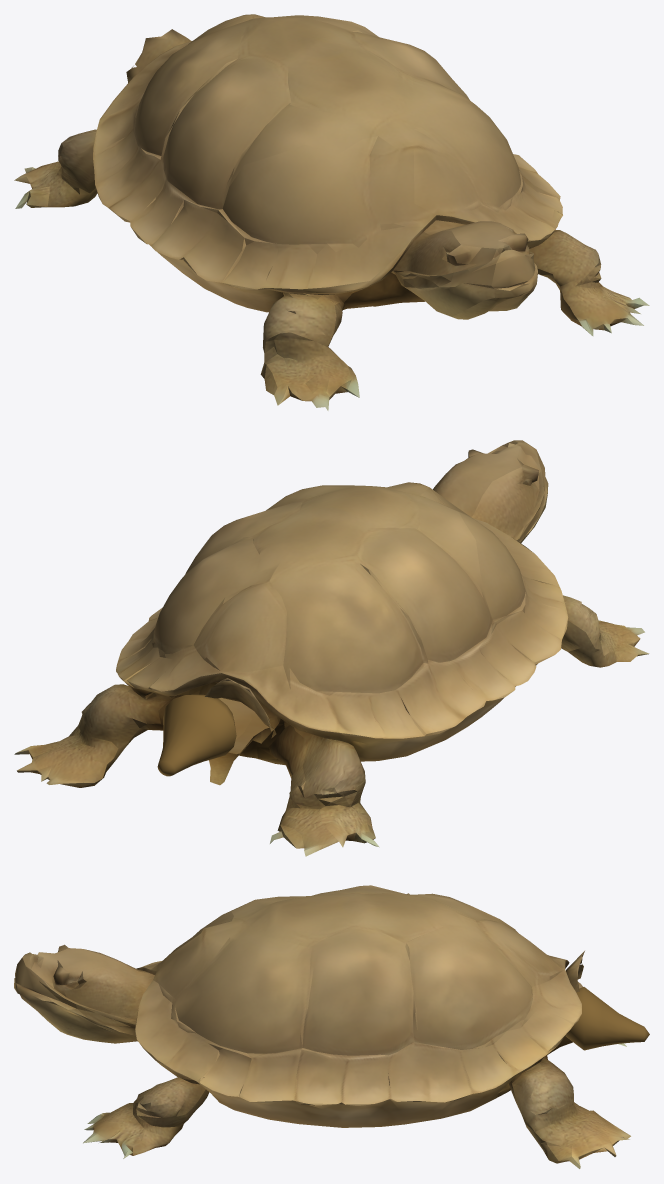
File: turtle.glb
3 views of the same model, one above another, from view 1: azimuth 30°, elevation 25°; view 2: azimuth 150°, elevation 25°; view 3: azimuth 270°, elevation 25° (orthographic). The views are drawn at different scales.
Parts seen in each view (by area): view 1: model; view 2: model; view 3: model.
Boxes of the visible parts, box(x1,y1,x2,y2) form: model: box(14, 14, 649, 410); model: box(14, 440, 649, 856); model: box(14, 885, 649, 1168).
Size of the model in its own units: 0.4289 by 0.22 by 0.6952.
1 material, 1 textured.
